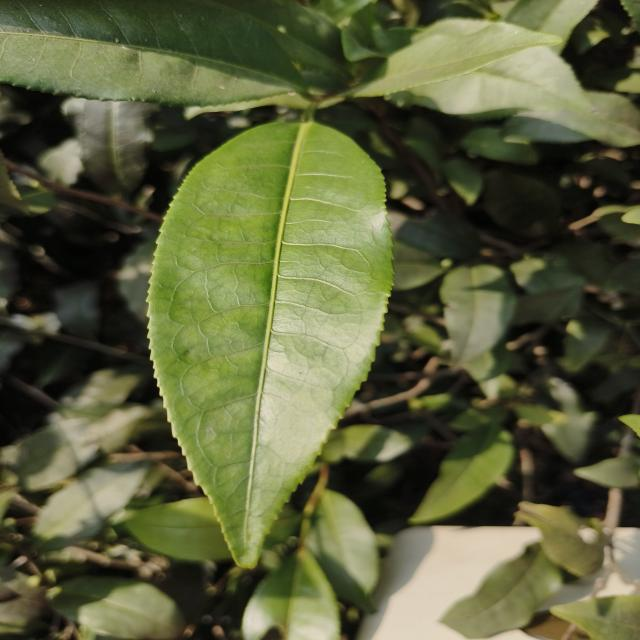Leaf: (148, 121, 393, 566), (0, 0, 300, 106), (352, 18, 559, 97), (411, 47, 596, 129), (440, 543, 562, 638), (409, 421, 514, 524), (206, 0, 345, 77), (33, 461, 151, 550), (61, 98, 159, 196), (242, 549, 340, 640), (307, 489, 379, 612), (51, 575, 184, 640), (504, 91, 640, 148), (440, 264, 515, 366), (125, 497, 231, 561), (515, 502, 605, 577), (550, 595, 640, 640), (321, 424, 412, 463), (461, 127, 538, 164)
